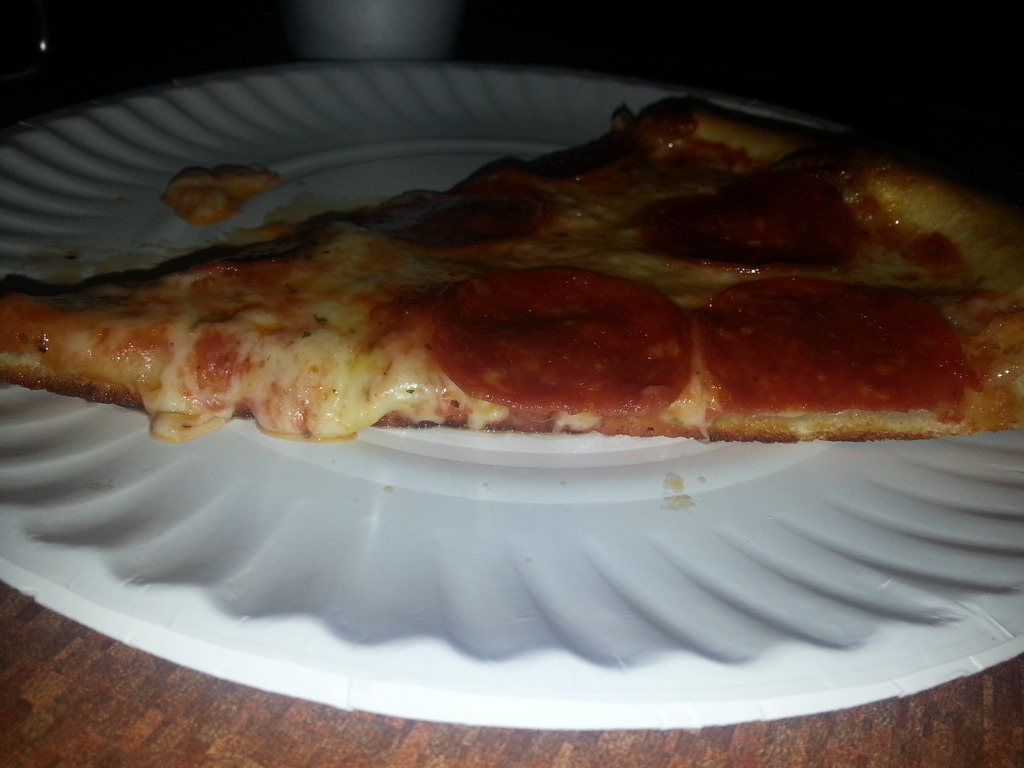pizza: (0, 89, 1023, 440)
